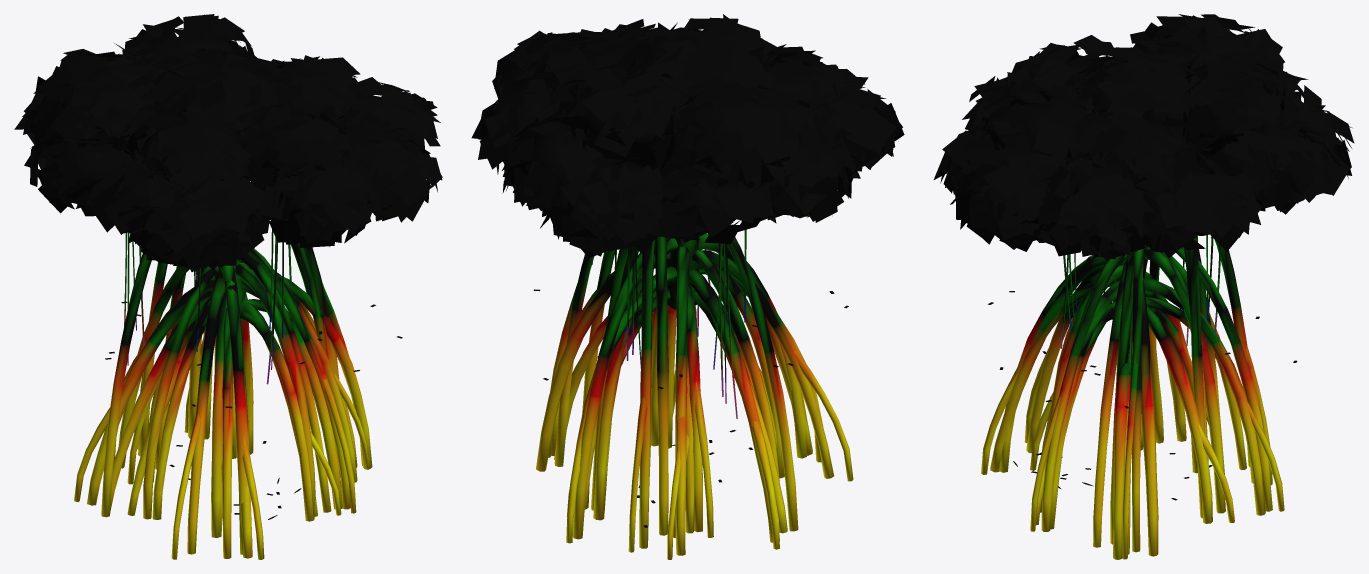
Rendered from mangrove_d.glb.
3 views of the same model, side by side, from view 1: azimuth 30°, elevation 25°; view 2: azimuth 150°, elevation 25°; view 3: azimuth 270°, elevation 25° (orthographic). The views are drawn at different scales.
Parts seen in each view (by area): view 1: mangrove_d; view 2: mangrove_d; view 3: mangrove_d.
Part boxes in pixels (x1,y1,x2,y2): mangrove_d: [14, 14, 442, 559]; mangrove_d: [471, 14, 904, 559]; mangrove_d: [933, 14, 1354, 559].
Bounding box in the file's own units: 8.62 × 9.81 × 8.54.
